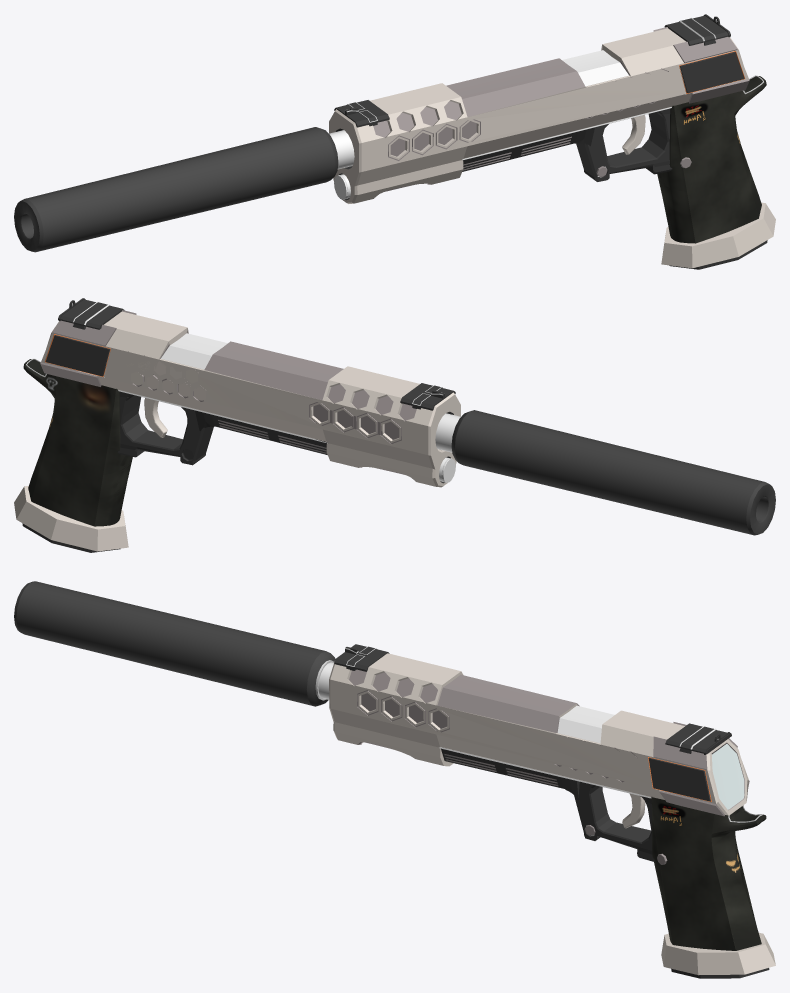
File: _silencedPistol.fbx
3 views of the same model, one above another, from view 1: azimuth 30°, elevation 25°; view 2: azimuth 150°, elevation 25°; view 3: azimuth 330°, elevation 25° (orthographic).
Visible parts, largest first — view 1: TopPart, Supressor, Handle.002, BottomPart, BackChip1.001, Plane, BottomMuzzle, IronSight, Trigger; view 2: TopPart, Supressor, Handle.002, BottomPart, BackChip1.004, Plane, BottomMuzzle, IronSight, Trigger; view 3: TopPart, Supressor, Handle.002, BottomPart, BackChip1.001, TopPart.004, Plane, IronSight.
Boxes of the visible parts, x1,y1,x2,y2 form: TopPart: (329, 27, 749, 203); Supressor: (14, 127, 338, 252); Handle.002: (657, 75, 775, 269); BottomPart: (462, 107, 672, 181); BackChip1.001: (679, 51, 745, 93); Plane: (664, 14, 730, 45); BottomMuzzle: (329, 130, 354, 199); IronSight: (334, 100, 389, 127); Trigger: (622, 115, 645, 154); TopPart: (40, 310, 460, 487); Supressor: (451, 410, 775, 535); Handle.002: (14, 358, 132, 552); BottomPart: (117, 390, 327, 465); BackChip1.004: (45, 334, 110, 377); Plane: (58, 298, 124, 329); BottomMuzzle: (435, 413, 460, 482); IronSight: (400, 383, 455, 410); Trigger: (144, 398, 167, 437); TopPart: (329, 653, 749, 816); Supressor: (14, 581, 335, 706); Handle.002: (651, 796, 775, 978); BottomPart: (439, 747, 654, 861); BackChip1.001: (648, 757, 711, 801); TopPart.004: (712, 744, 744, 809); Plane: (665, 723, 731, 754); IronSight: (334, 644, 389, 671).
Size of the model in its own units: 1759 by 531 by 166.
Materials: 9 (1 with a texture image).
